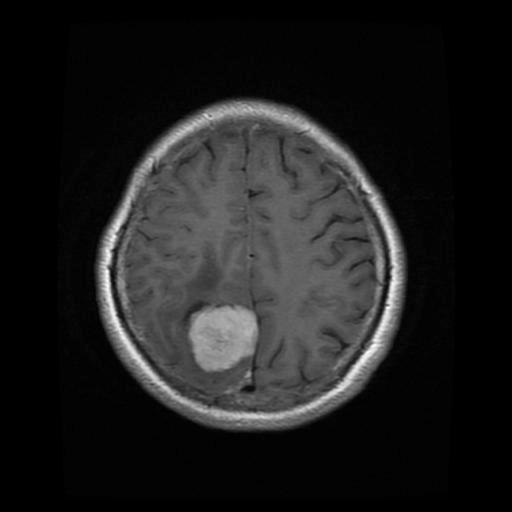Tumour-Meningioma: (158, 280, 285, 382)
